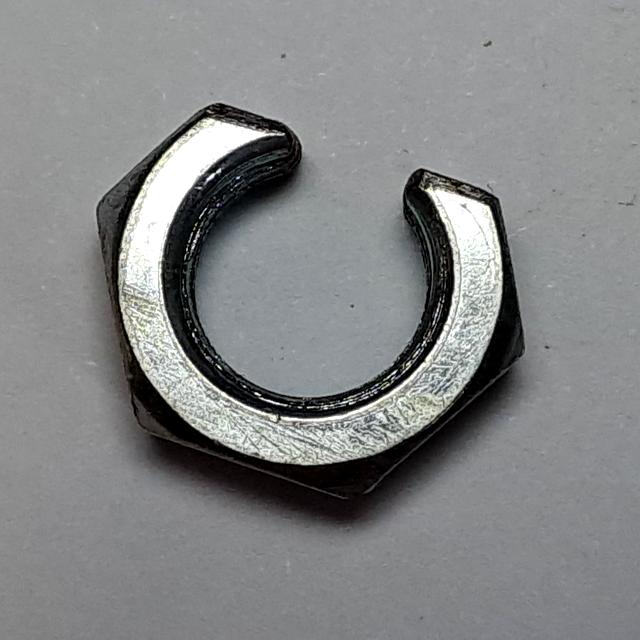Fracture: (85, 87, 541, 520)
